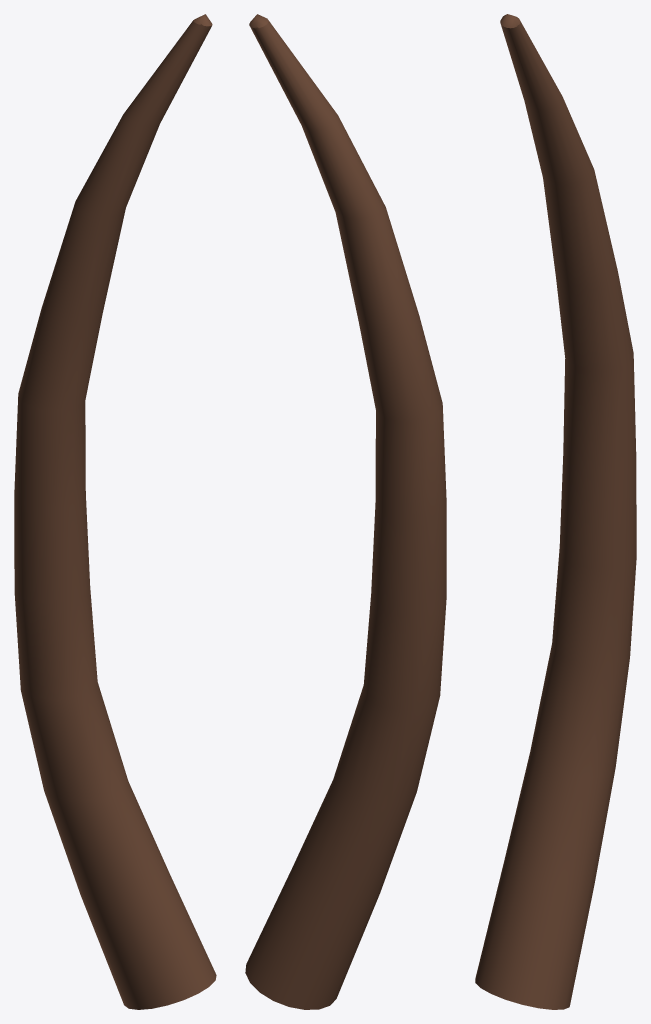
Rendered from tusk.FBX.
3 views of the same model, side by side, from view 1: azimuth 30°, elevation 25°; view 2: azimuth 210°, elevation 25°; view 3: azimuth 270°, elevation 25° (orthographic). The views are drawn at different scales.
Visible parts, largest first — view 1: tusk; view 2: tusk; view 3: tusk.
Part boxes in pixels (x1=…): tusk: x1=14, y1=14, x2=216, y2=1009; tusk: x1=245, y1=14, x2=446, y2=1009; tusk: x1=475, y1=14, x2=636, y2=1009.
Size of the model in its own units: 118 by 719 by 105.
